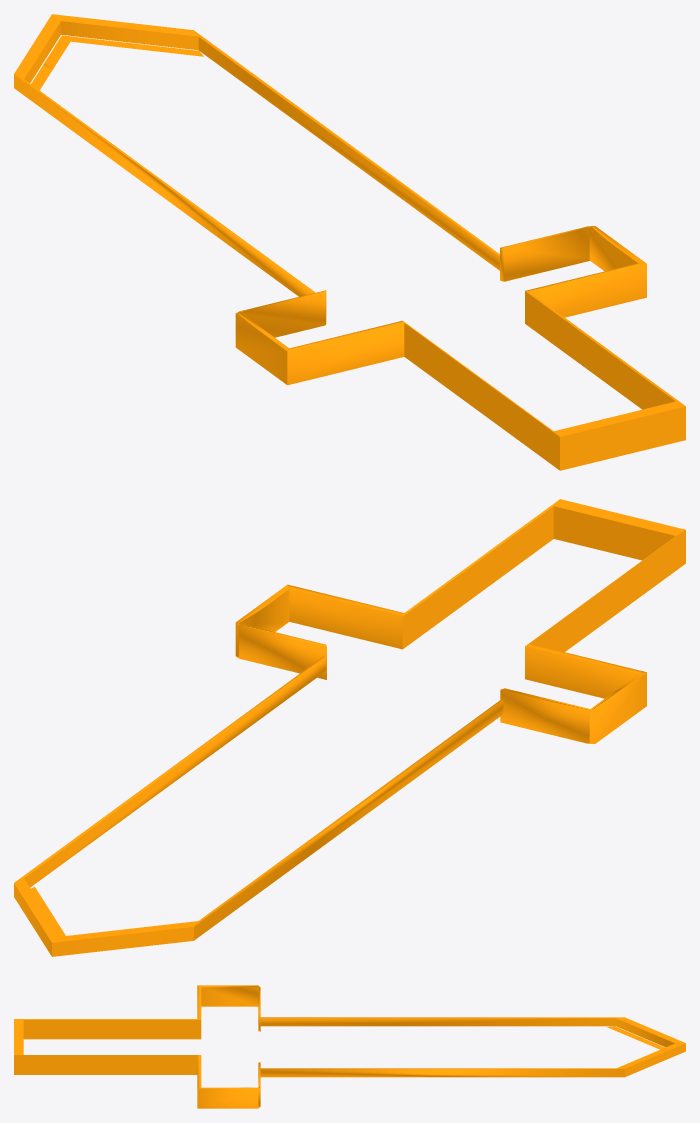
File: silueta.fbx
The picture shows the model from 3 angles, top to bottom: view 1: azimuth 30°, elevation 25°; view 2: azimuth 150°, elevation 25°; view 3: azimuth 270°, elevation 25°; orthographic projection. The views are drawn at different scales.
Visible parts, largest first — view 1: Plane; view 2: Plane; view 3: Plane.
Part boxes in pixels (left/top/right/bottom): Plane: left=14, top=14, right=685, bottom=470; Plane: left=14, top=499, right=685, bottom=956; Plane: left=14, top=985, right=685, bottom=1108.
Bounding box in the file's own units: 412 × 37 × 1134.
